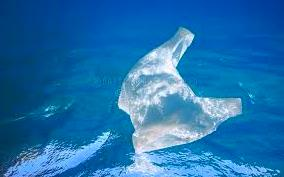Trash: (115, 29, 243, 160)
